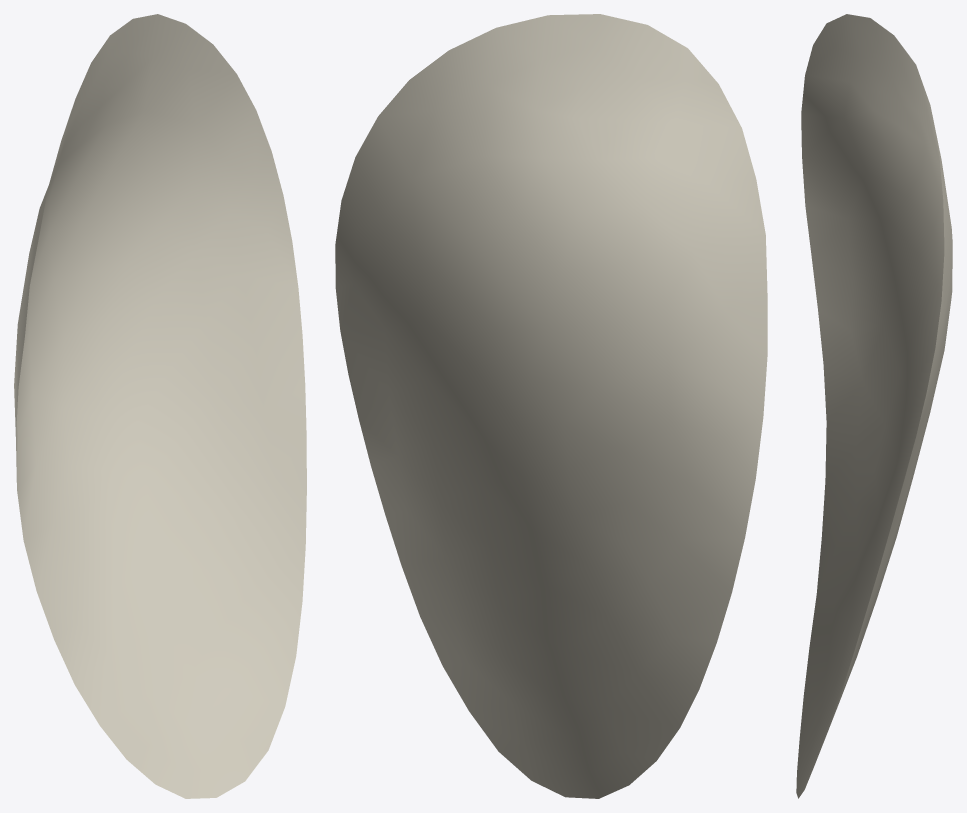
File: fma43711_mm1662.glb
3 renders of one model, left to right at view 1: azimuth 30°, elevation 25°; view 2: azimuth 150°, elevation 25°; view 3: azimuth 270°, elevation 25°, orthographic. The views are drawn at different scales.
Visible parts, largest first — view 1: FMA43711_MM1662; view 2: FMA43711_MM1662; view 3: FMA43711_MM1662.
Boxes of the visible parts, x1=… form: FMA43711_MM1662: x1=14, y1=14, x2=306, y2=798; FMA43711_MM1662: x1=335, y1=14, x2=767, y2=798; FMA43711_MM1662: x1=796, y1=14, x2=952, y2=798.
Bounding box in the file's own units: 0.0109 × 0.0236 × 0.0045.
